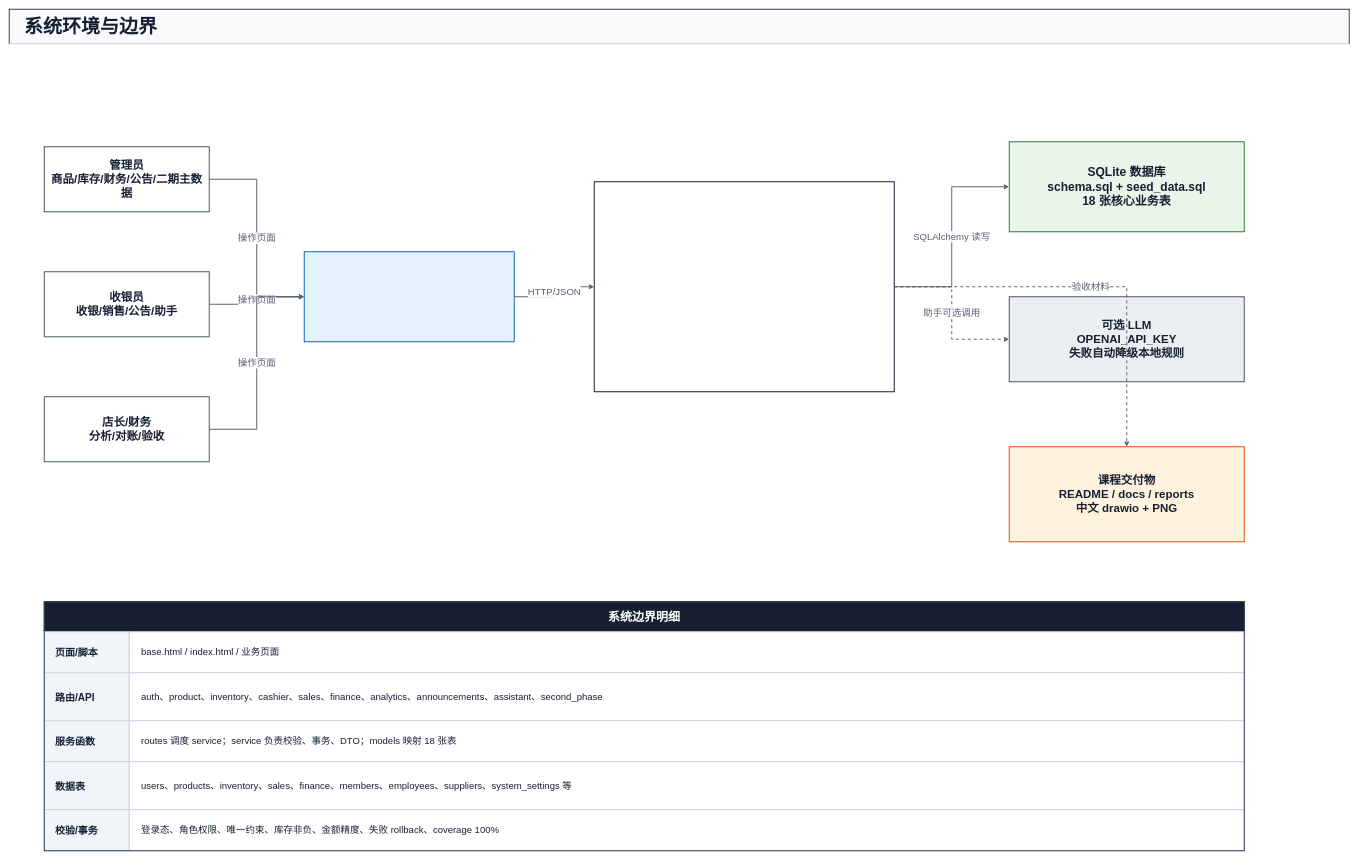
Some shapes in this 1358 by 860 pixel diagram are drawn without their labels. The centre of each missing label's shape, as x and y in pixels:
上下文图｜参与者、系统边界、外部交付物: the point at 679,54
浏览器 Jinja2 页面 + JavaScript fetch: the point at 409,296
超市管理系统 Flask routes + services + models 登录、商品、库存、收银、销售、财务、公告、分析、助手、二期主数据: the point at 744,286
